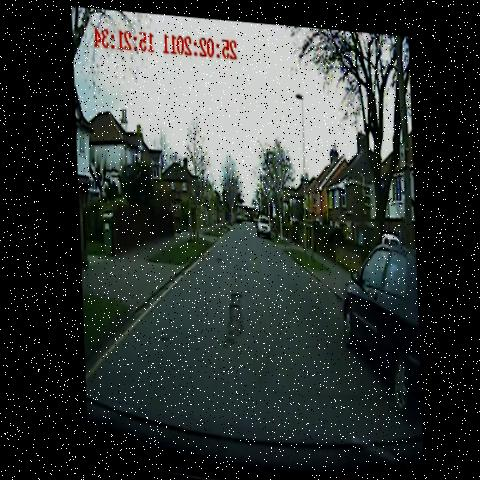pothole: (210, 278, 251, 356), (152, 321, 175, 347), (233, 255, 248, 283), (209, 242, 225, 268)
